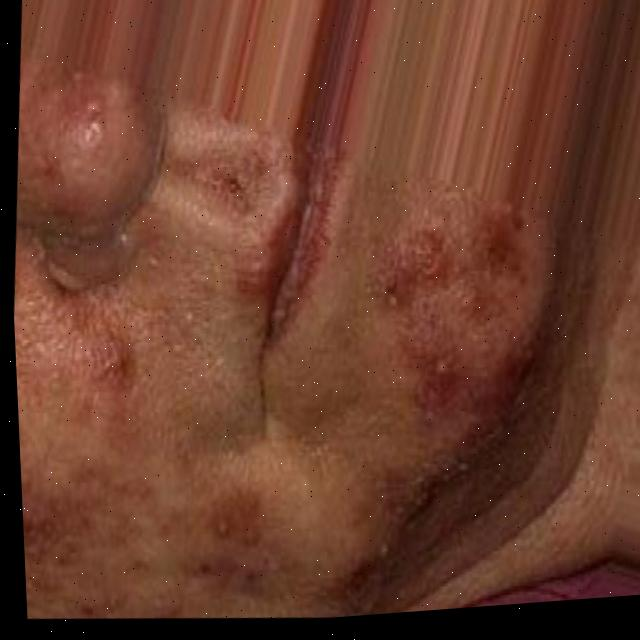Rosacea: (384, 223, 506, 391), (193, 479, 290, 608), (23, 505, 116, 624), (98, 333, 136, 383)
